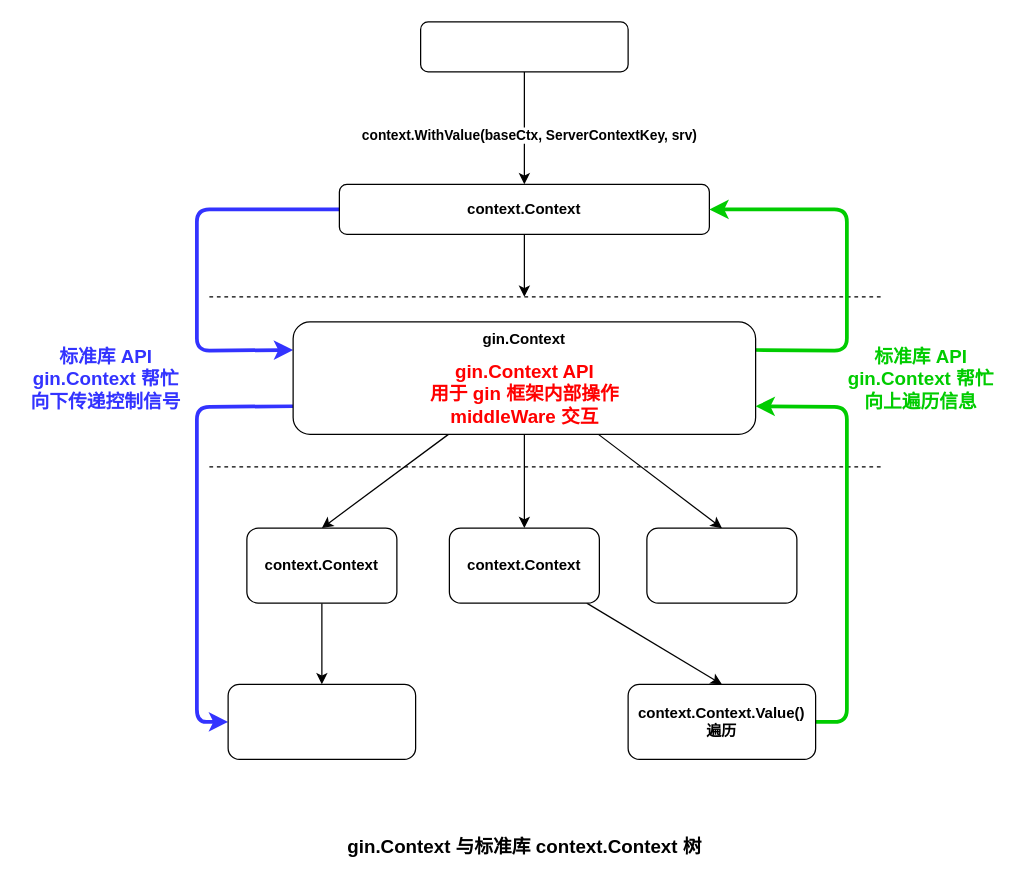
This 1026x886 diagram has some shape labels left out. The centre of each missing label's shape, as x and y in pixels:
context.Background(): the point at 523,46
context.Context.Done() 监听: the point at 321,721
three part Context: the point at 721,565
